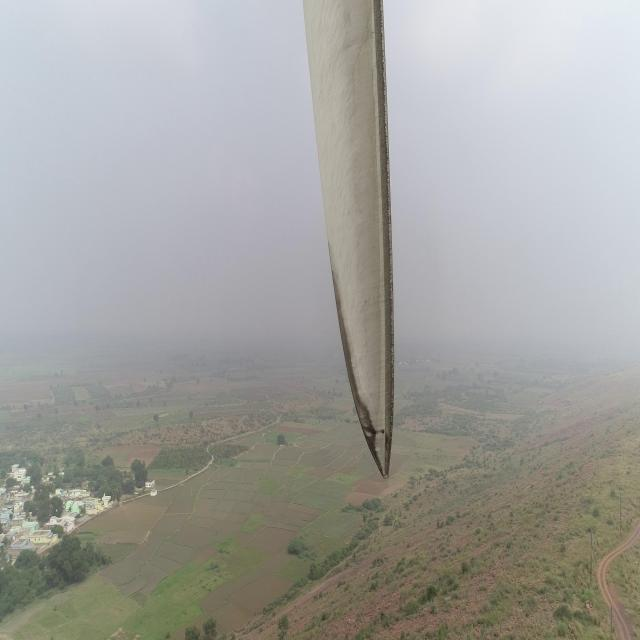Dirt: (303, 0, 393, 465)
Oil LEAKAGE: (331, 268, 390, 472)
